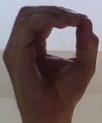O: (3, 2, 102, 107)
